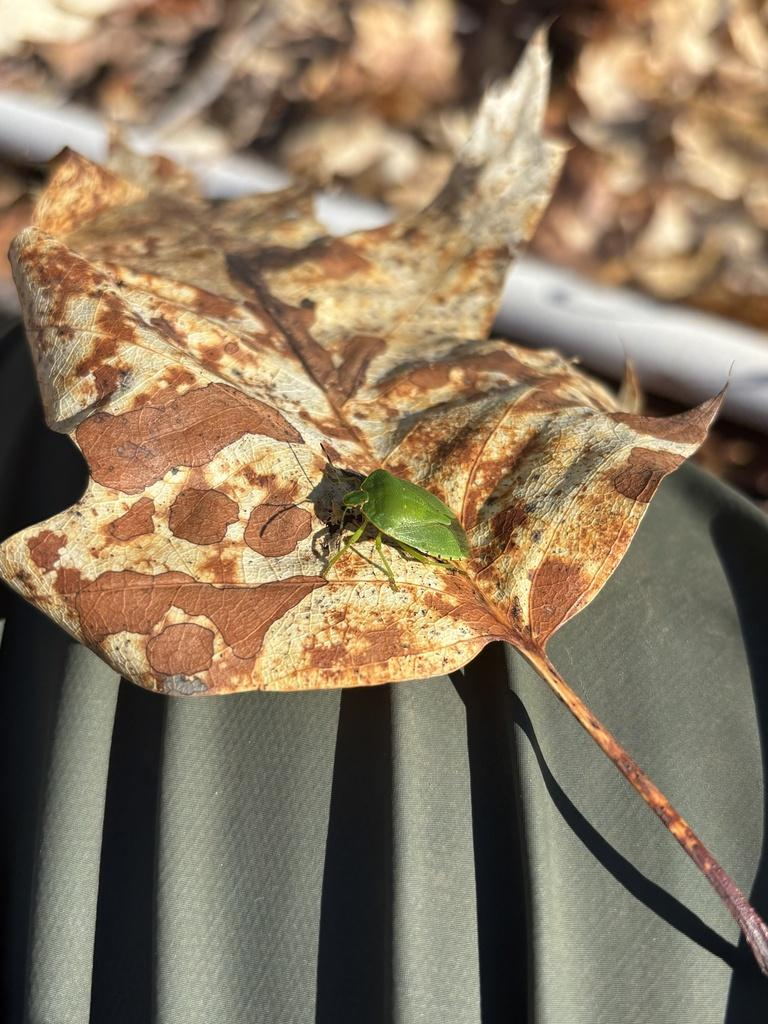stink_bugs: (296, 427, 498, 600)
